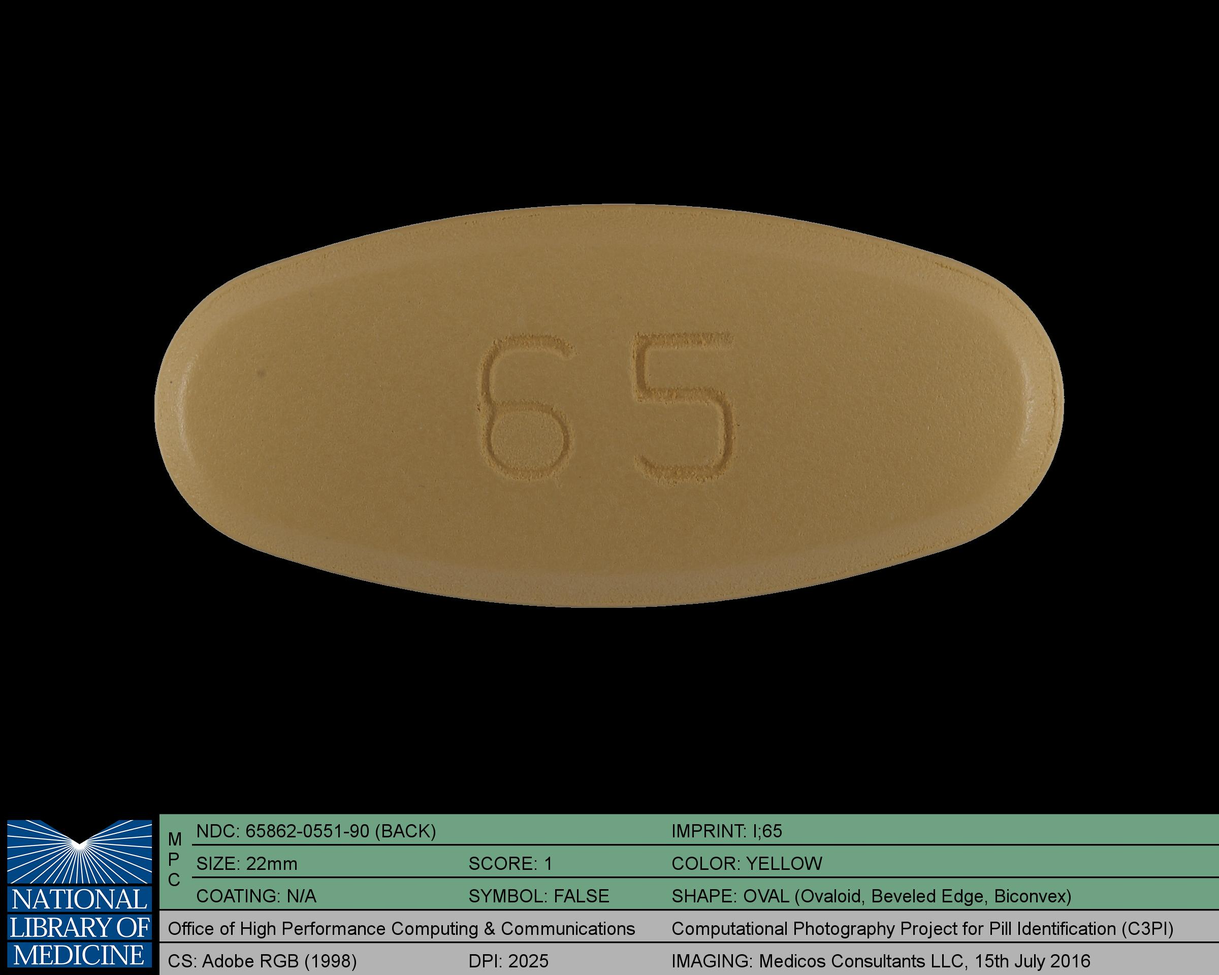Pill: (135, 188, 1075, 626)
